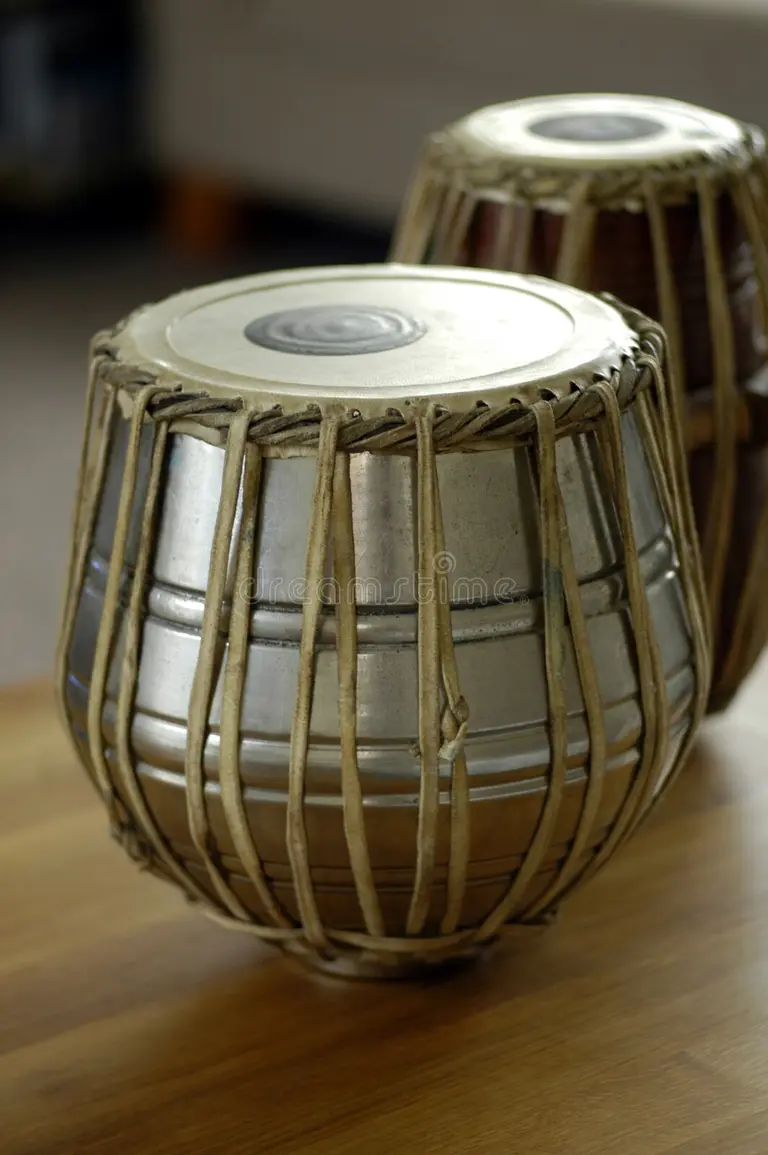tabla: (92, 262, 639, 395), (406, 93, 639, 259)
